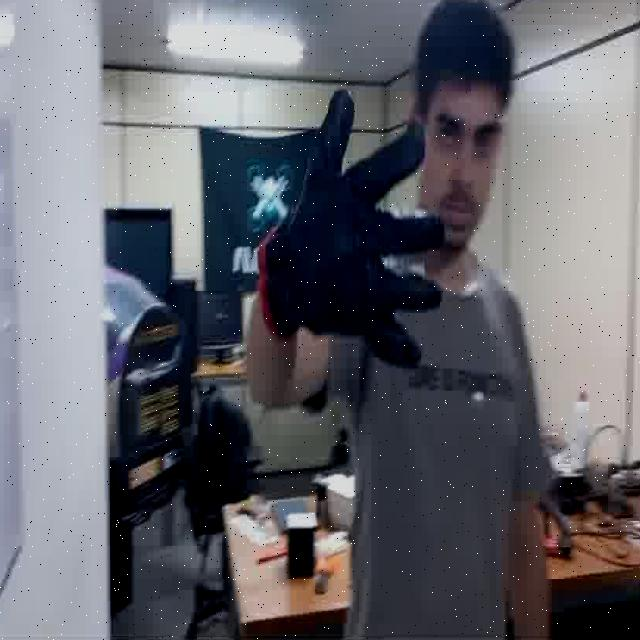Gloves: (253, 91, 442, 376)
